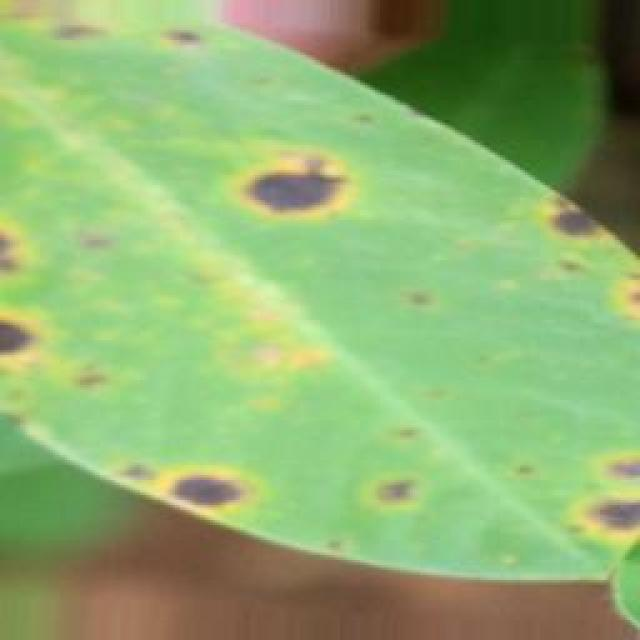Yellowish: (15, 0, 640, 585)
